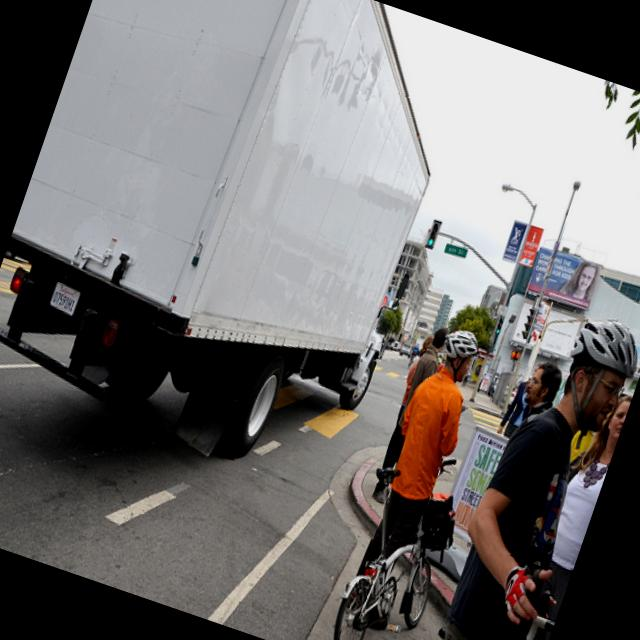Vehicle: (0, 0, 492, 499), (398, 341, 414, 358)
